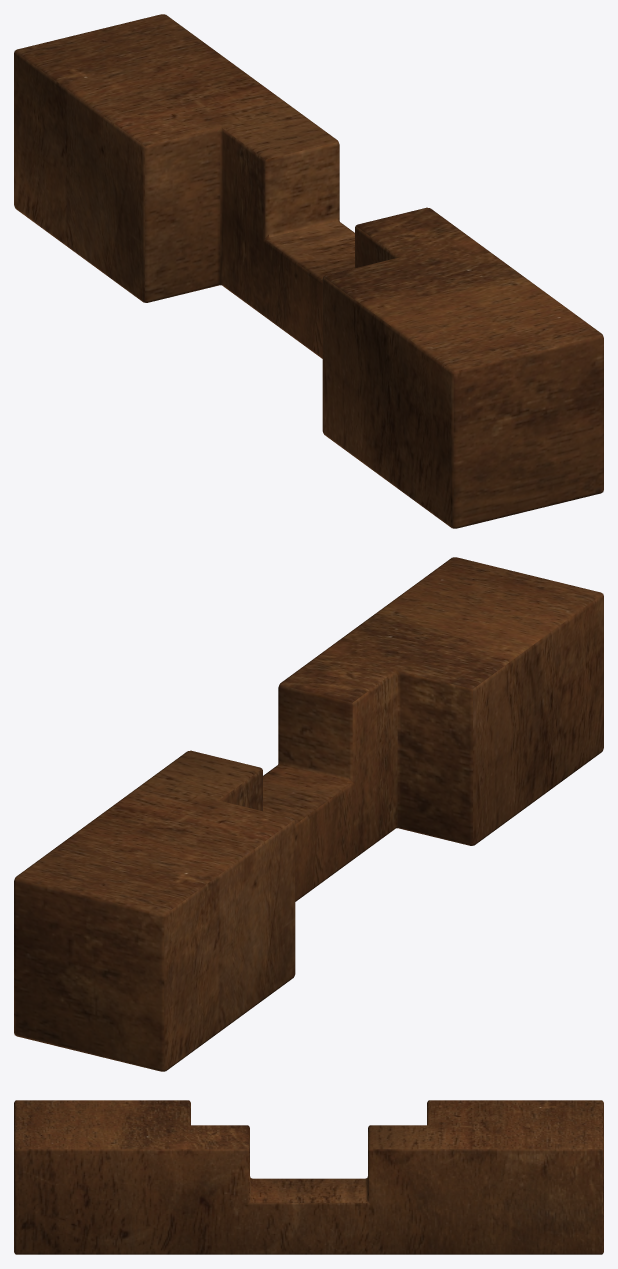
The model's file is luban_d.glb.
3 renders of one model, top to bottom at view 1: azimuth 30°, elevation 25°; view 2: azimuth 150°, elevation 25°; view 3: azimuth 270°, elevation 25°, orthographic. The views are drawn at different scales.
Visible parts, largest first — view 1: luban_d; view 2: luban_d; view 3: luban_d.
Boxes of the visible parts, box(x1,y1,x2,y2) form: luban_d: box(14, 14, 603, 528); luban_d: box(14, 557, 603, 1071); luban_d: box(14, 1100, 603, 1254).
Size of the model in its own units: 2 by 2 by 10.
Materials: 1 (1 with a texture image).
